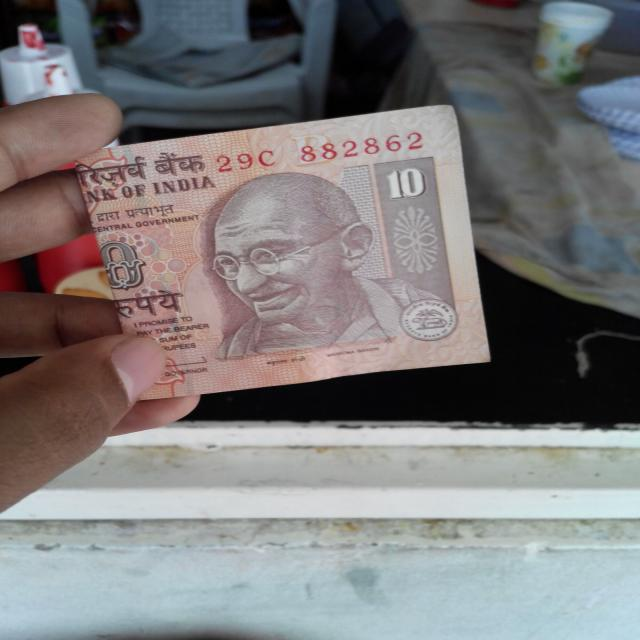10rs: (78, 106, 526, 399)
